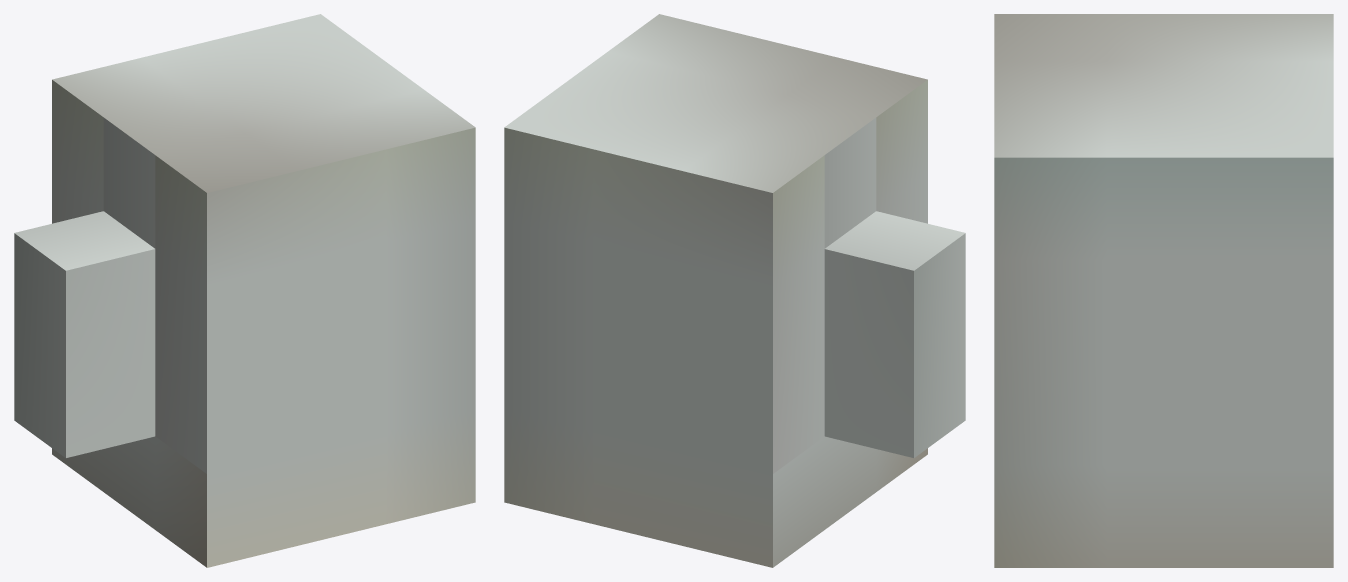
The model's file is Mug_00.fbx.
3 renders of one model, left to right at view 1: azimuth 30°, elevation 25°; view 2: azimuth 150°, elevation 25°; view 3: azimuth 270°, elevation 25°, orthographic. The views are drawn at different scales.
Parts seen in each view (by area): view 1: Mug_00; view 2: Mug_00; view 3: Mug_00.
Part boxes in pixels (<box>): Mug_00: <box>14,14,475,567</box>; Mug_00: <box>504,14,965,567</box>; Mug_00: <box>994,14,1333,567</box>.
Size of the model in its own units: 20 by 15 by 20.
1 material, 1 textured.
